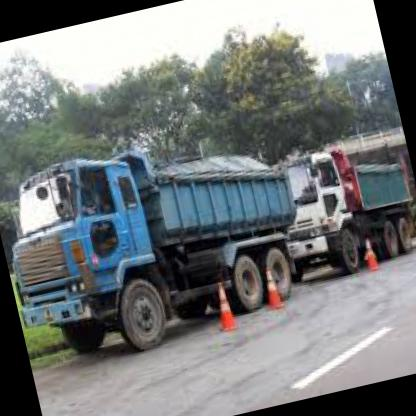truck: (1, 140, 184, 380), (261, 141, 371, 290)
